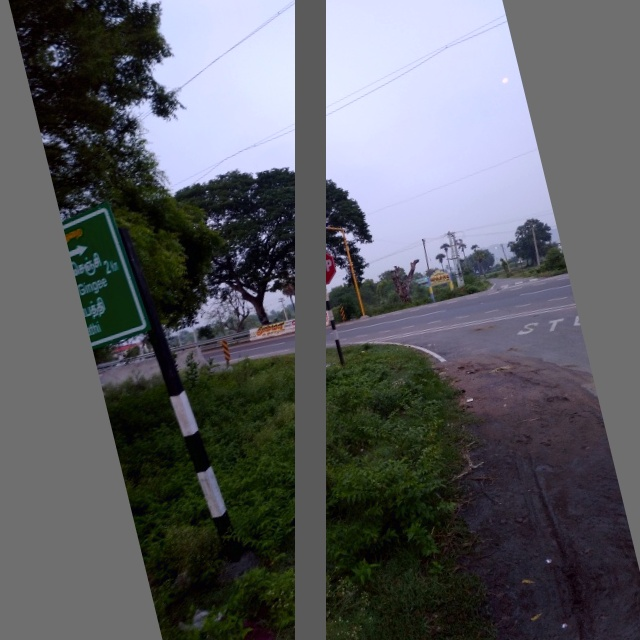Stop: (296, 245, 340, 290)
